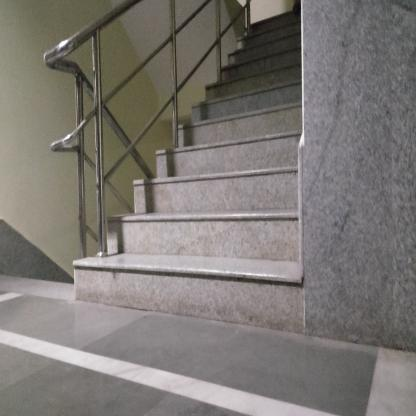stairs: (159, 155, 296, 333)
